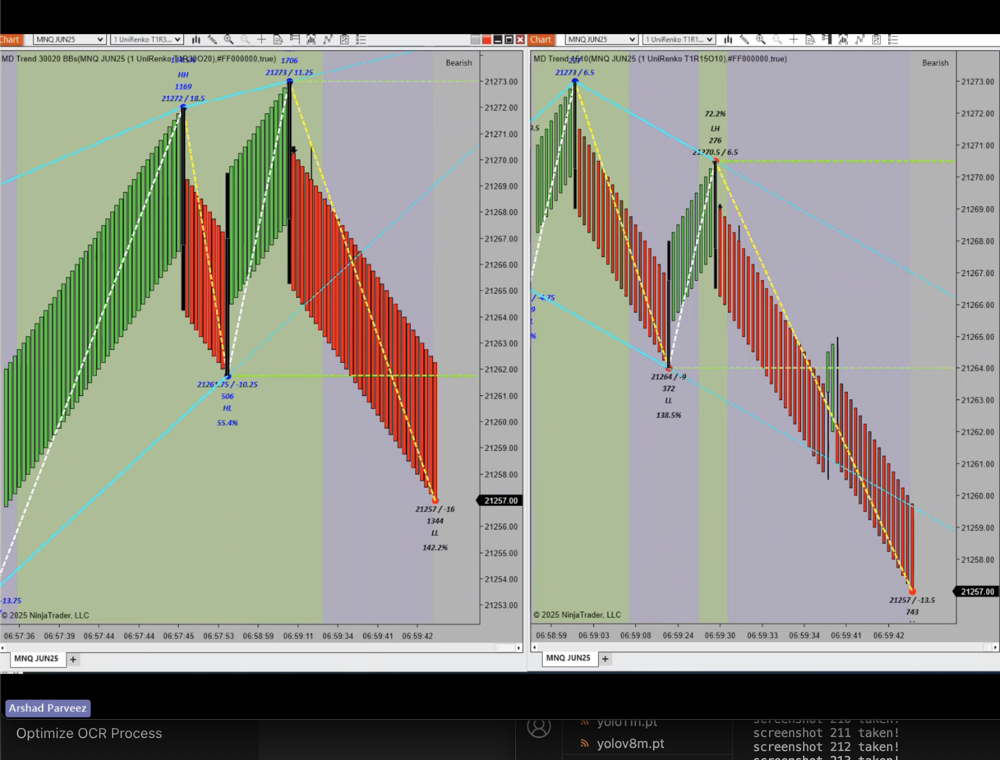HH: (169, 70, 197, 86)
HL: (215, 402, 240, 417)
LH: (704, 120, 730, 140)
LL: (657, 391, 680, 410), (424, 524, 446, 542)
